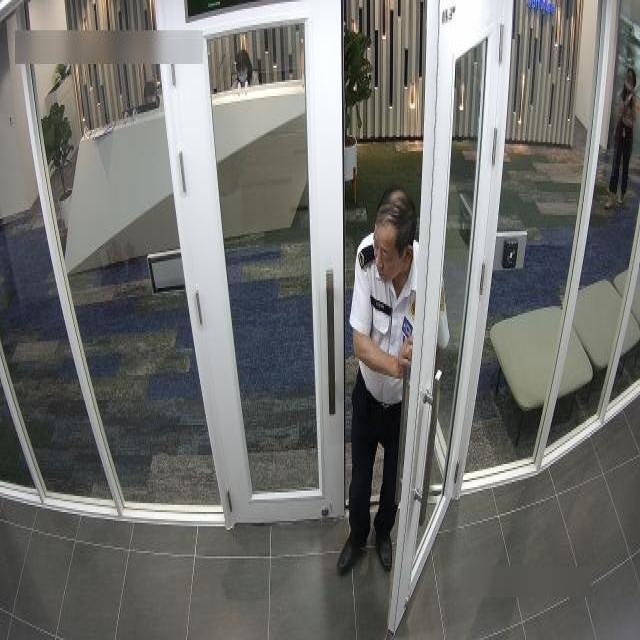bare_hand: (390, 329, 420, 393)
